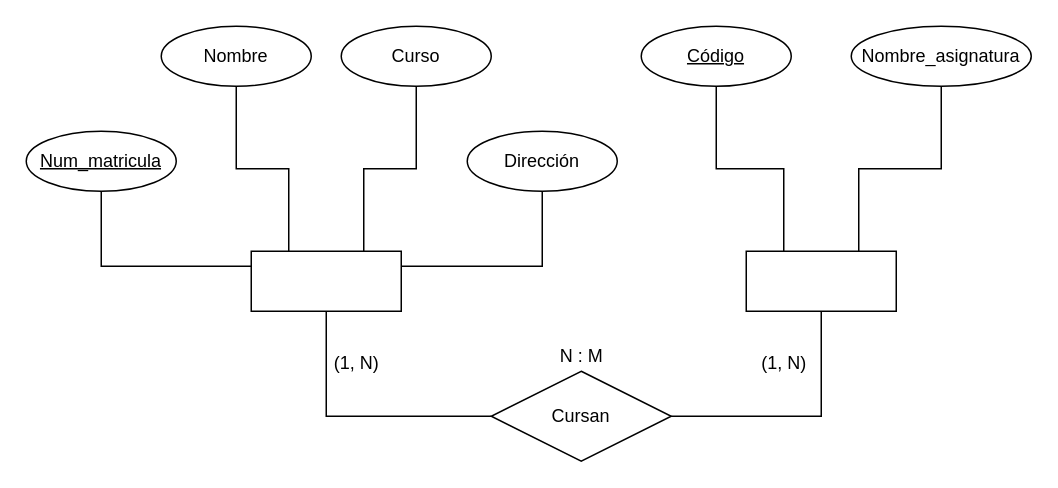
Some shapes in this 1058 by 488 pixel diagram are drawn without their labels. Each missing label, with the box of its shape:
Alumno: (250, 250, 401, 311)
Asignaturas: (745, 250, 896, 311)
